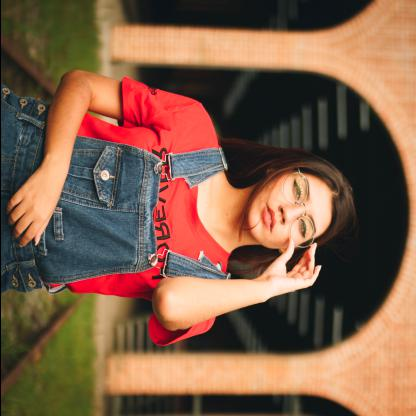Eye: (289, 176, 303, 202), (297, 218, 308, 238)
Mouth: (260, 201, 276, 235)
Nose: (276, 202, 300, 228)
